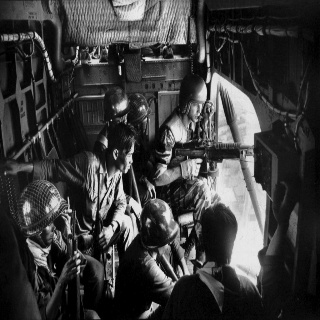rifle: (171, 137, 259, 179)
